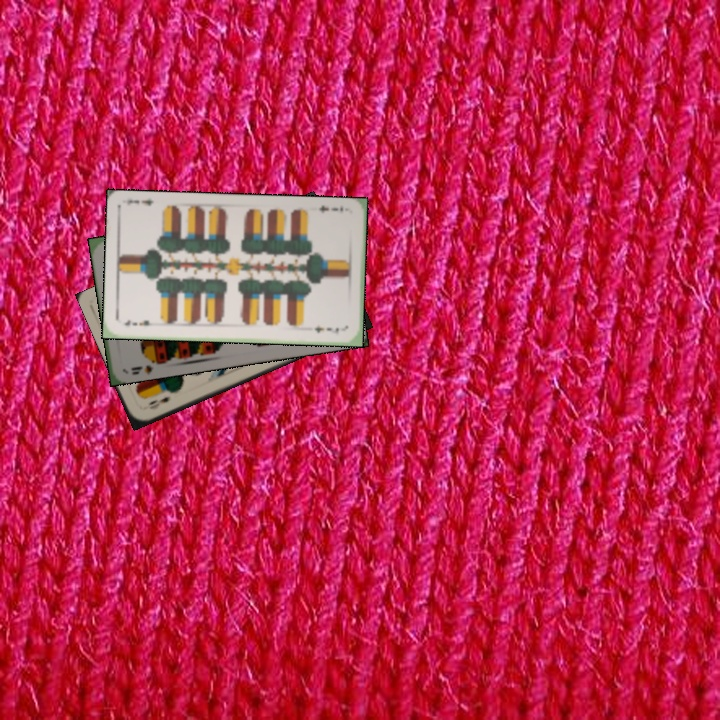E7: (120, 316, 158, 329), (315, 201, 345, 216)
EO: (144, 392, 172, 412)
S9: (127, 354, 164, 377)
